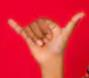clockwise: (4, 8, 85, 60)
